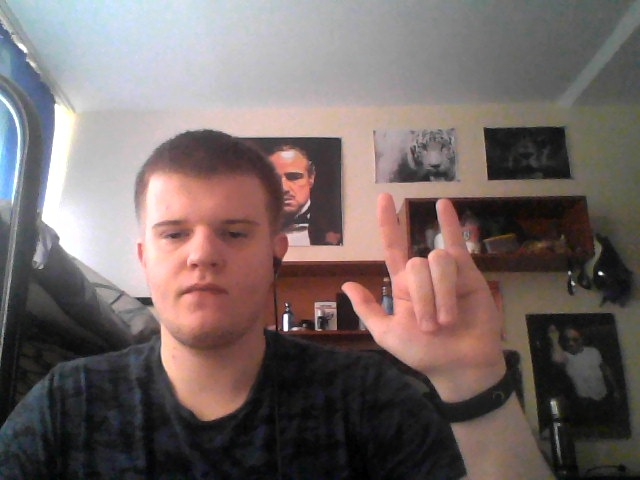iloveyou: (337, 191, 511, 372)
